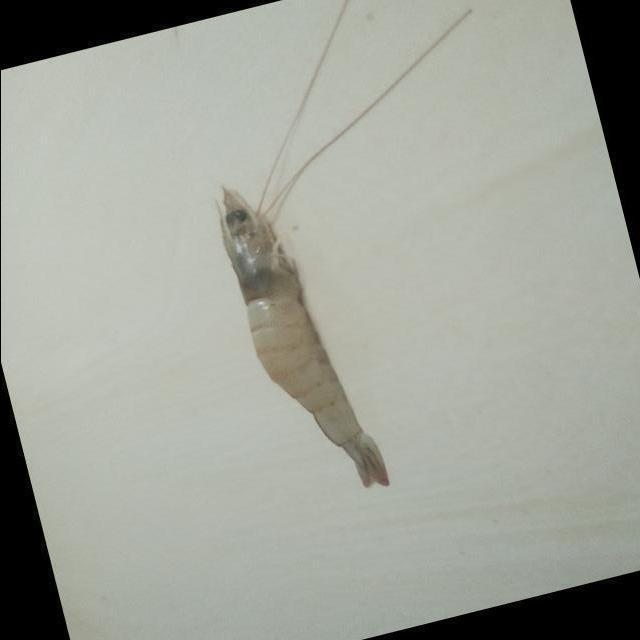shrimp: (220, 187, 388, 488)
